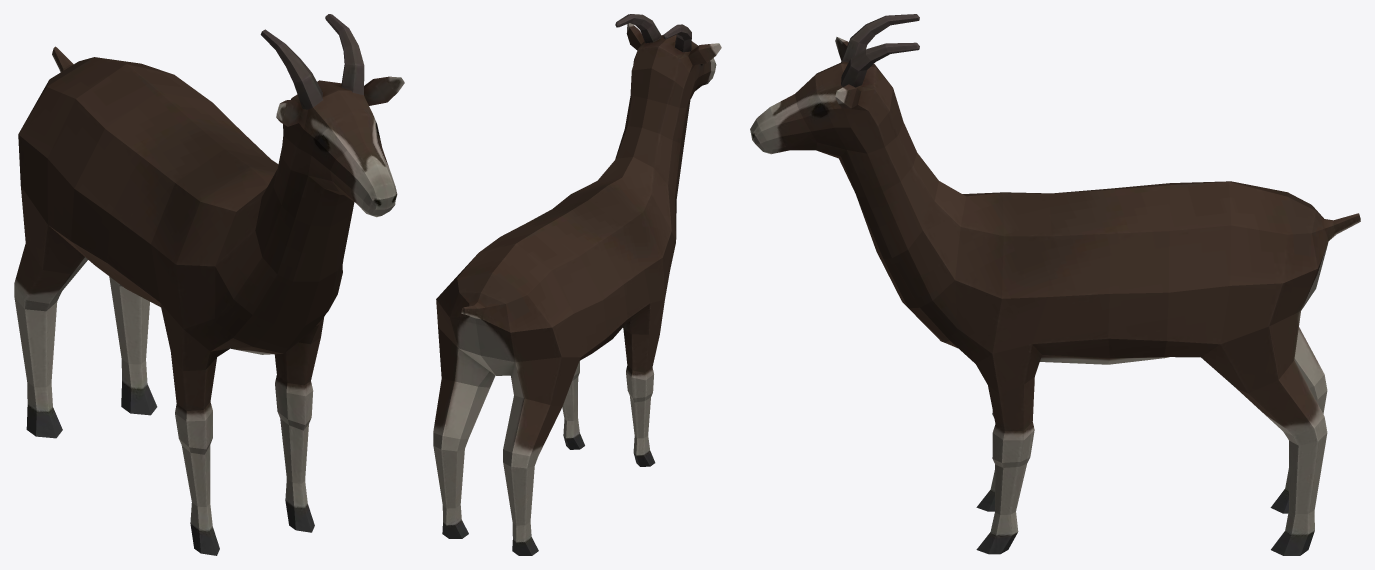
The model's file is goat.glb.
3 views of the same model, side by side, from view 1: azimuth 30°, elevation 25°; view 2: azimuth 150°, elevation 25°; view 3: azimuth 270°, elevation 25° (orthographic). The views are drawn at different scales.
Visible parts, largest first — view 1: Goat_mesh; view 2: Goat_mesh; view 3: Goat_mesh.
Boxes of the visible parts, x1,y1,x2,y2 form: Goat_mesh: [14, 14, 404, 555]; Goat_mesh: [433, 14, 721, 555]; Goat_mesh: [750, 14, 1360, 555].
Bounding box in the file's own units: 2.26 × 6.6 × 7.31.
1 material, 1 textured.
